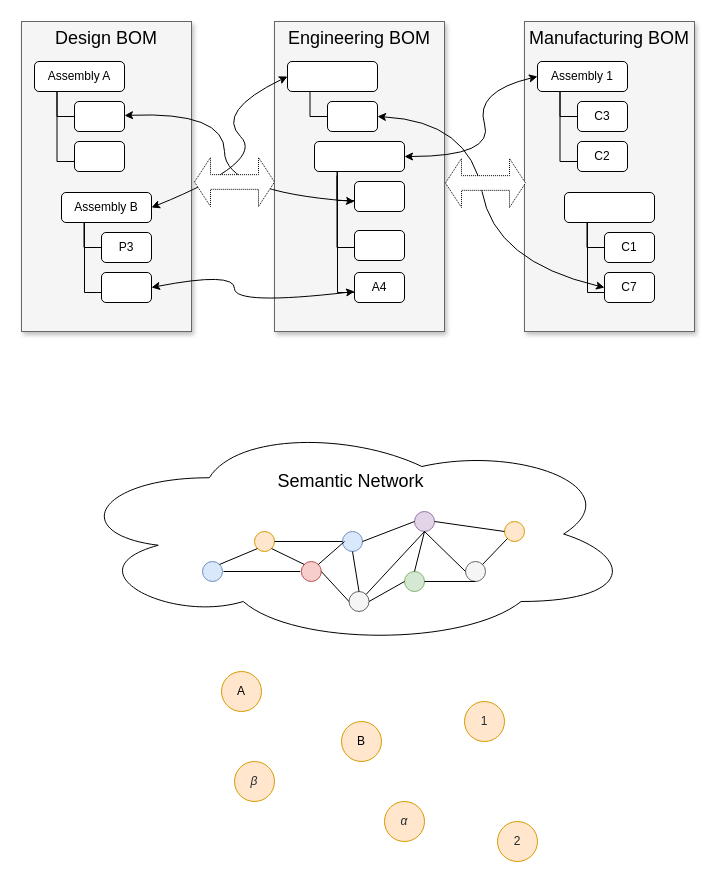
Image size: 718x879. Some labels were removed from this diagram. The shapes that lost their labels are listed below. From the top down, each one's centre as x and y in pixels, then its label:
the point at 332,76: Assembly α
the point at 99,116: P1
the point at 352,116: A1
the point at 99,156: P2
the point at 359,156: Assembly β
the point at 379,196: A2
the point at 609,207: Assembly 2
the point at 379,245: A3
the point at 126,287: P4
